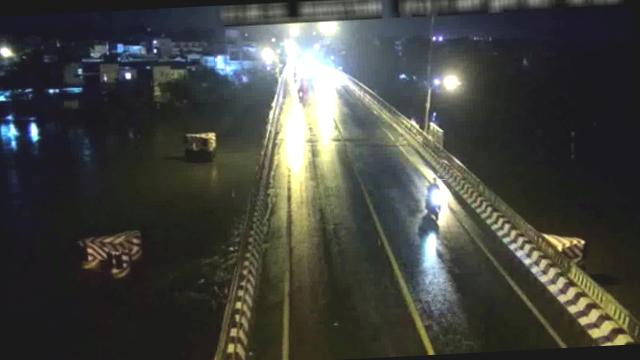Bike: (419, 179, 446, 219)
